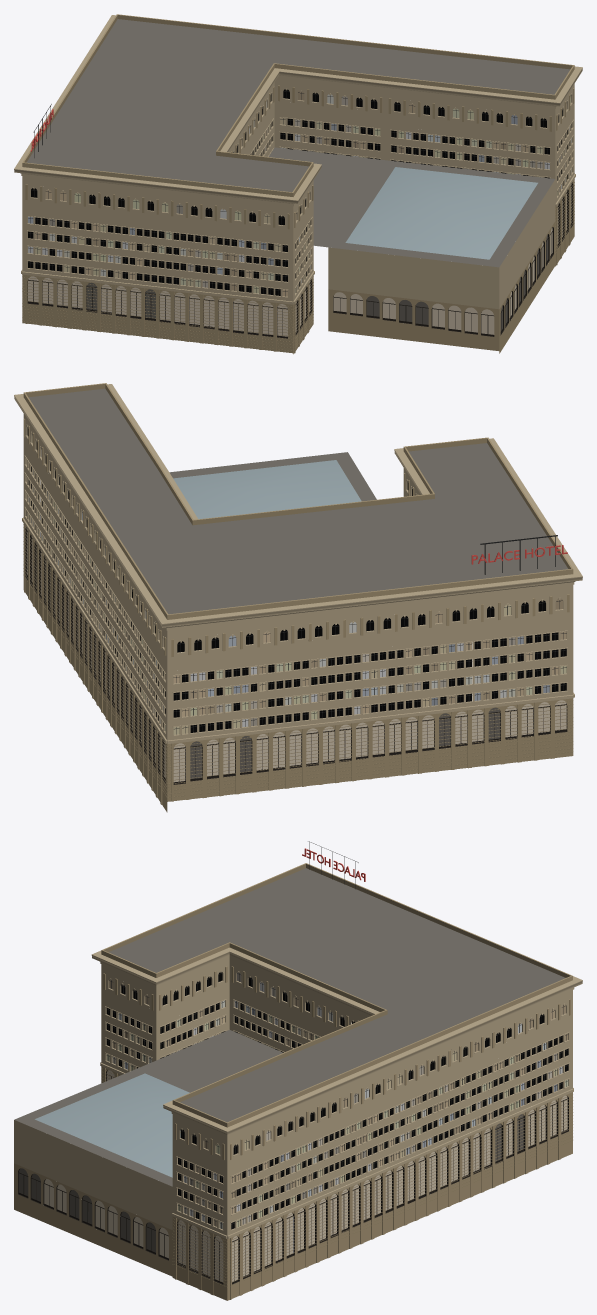
The model's file is palace_lod0.glb.
3 views of the same model, one above another, from view 1: azimuth 30°, elevation 25°; view 2: azimuth 150°, elevation 25°; view 3: azimuth 270°, elevation 25° (orthographic). The views are drawn at different scales.
Visible parts, largest first — view 1: L0_stone, L0_roof, L0_win, L0_glassc, L0_shop, L0_metal; view 2: L0_stone, L0_roof, L0_win, L0_shop, L0_metal, L0_glassc; view 3: L0_stone, L0_roof, L0_shop, L0_win, L0_metal, L0_glassc.
Boxes of the visible parts, bbox=[...] form: L0_stone: bbox=[14, 14, 582, 354]; L0_roof: bbox=[26, 19, 570, 267]; L0_win: bbox=[28, 89, 571, 296]; L0_glassc: bbox=[345, 167, 537, 259]; L0_shop: bbox=[28, 184, 571, 336]; L0_metal: bbox=[27, 90, 573, 338]; L0_stone: bbox=[14, 383, 582, 812]; L0_roof: bbox=[28, 388, 568, 614]; L0_win: bbox=[26, 428, 566, 734]; L0_shop: bbox=[27, 529, 566, 782]; L0_metal: bbox=[25, 427, 567, 784]; L0_glassc: bbox=[173, 460, 361, 519]; L0_stone: bbox=[14, 863, 582, 1300]; L0_roof: bbox=[14, 868, 565, 1186]; L0_shop: bbox=[19, 1070, 567, 1281]; L0_win: bbox=[106, 972, 568, 1229]; L0_metal: bbox=[18, 841, 568, 1284]; L0_glassc: bbox=[35, 1073, 189, 1177].
Size of the model in its own units: 133 by 47.41 by 119.
